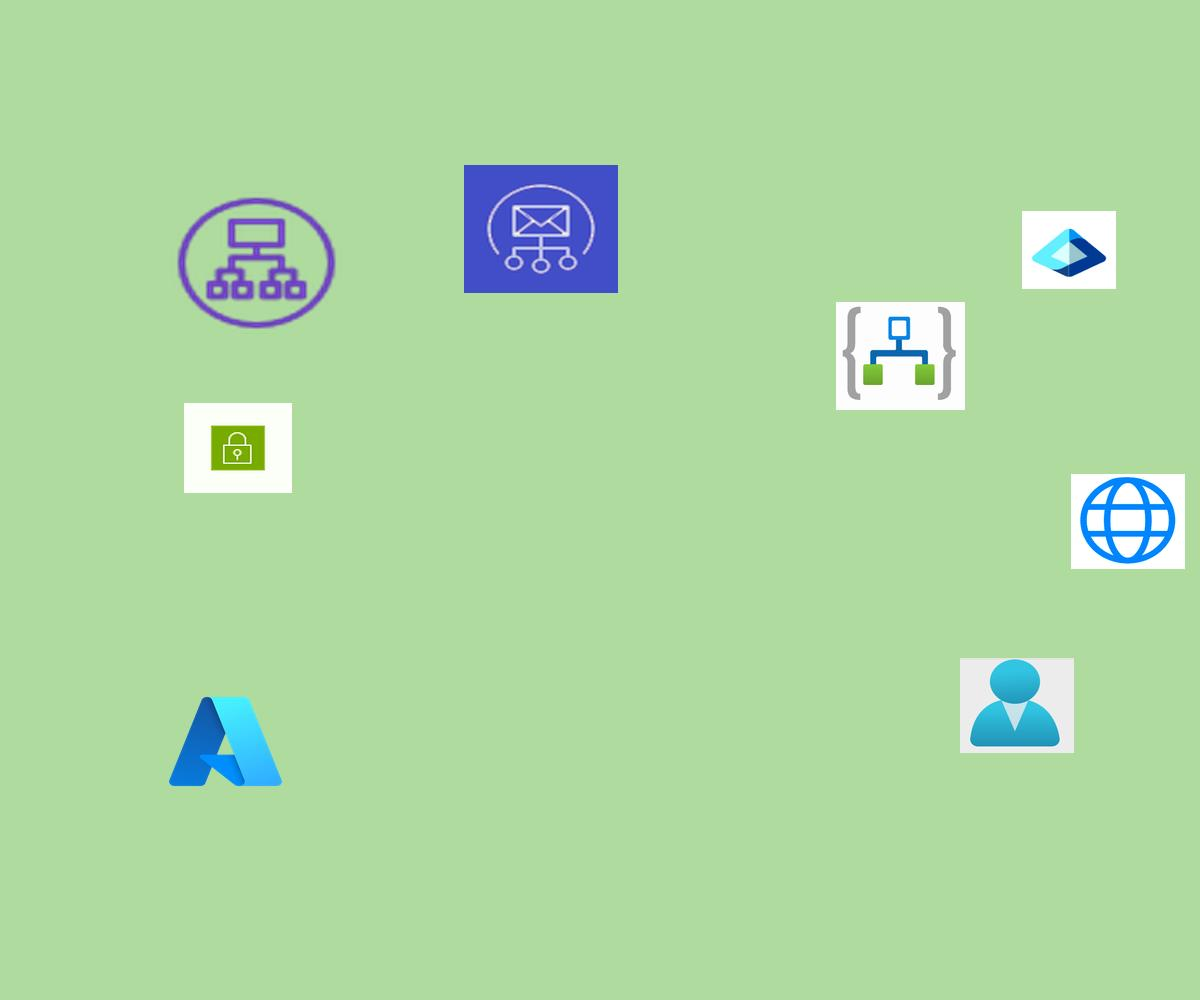AWS-Public-subnet: (184, 403, 292, 493)
AWS-Res_Elastic-Load-Balancing_Application-Load-Balancer: (171, 192, 342, 334)
AWS-Simple-Email-Service: (464, 165, 618, 293)
Azure_http: (1071, 474, 1185, 569)
Azure_integration-204-Logic-Apps: (836, 302, 965, 410)
Azure_microsoft_entra: (1022, 211, 1116, 289)
Azure_services: (164, 690, 287, 793)
Azure_users: (960, 658, 1074, 753)
